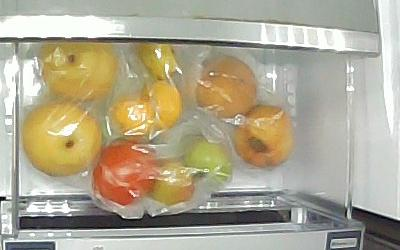peach_vinyl: (194, 54, 259, 118), (233, 105, 297, 168)
pear_vinyl: (24, 100, 103, 177), (37, 43, 120, 103)
tangerine_vinyl: (143, 80, 184, 129), (136, 42, 182, 81), (114, 100, 154, 140)
tomato_vinyl: (91, 135, 161, 205), (177, 134, 233, 185), (150, 158, 196, 204)
